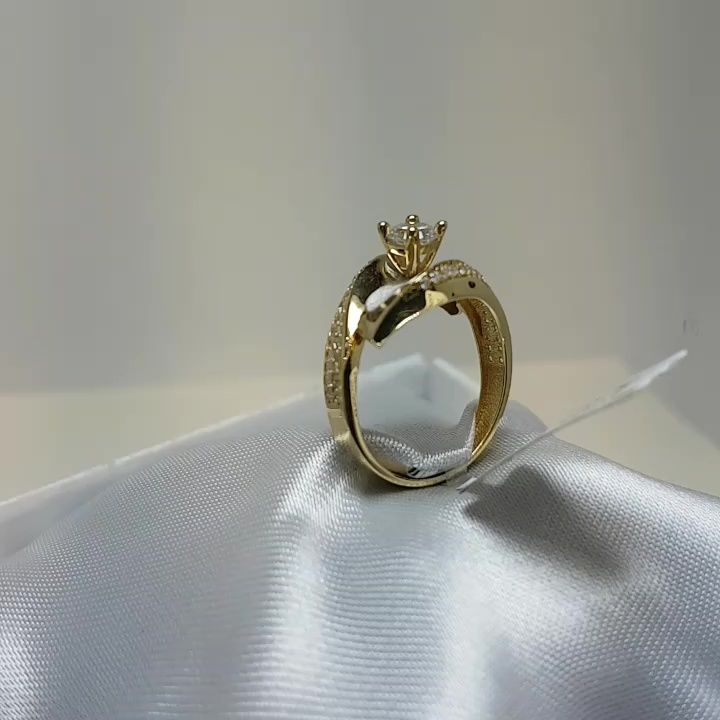Ring 6: (260, 204, 537, 506)
